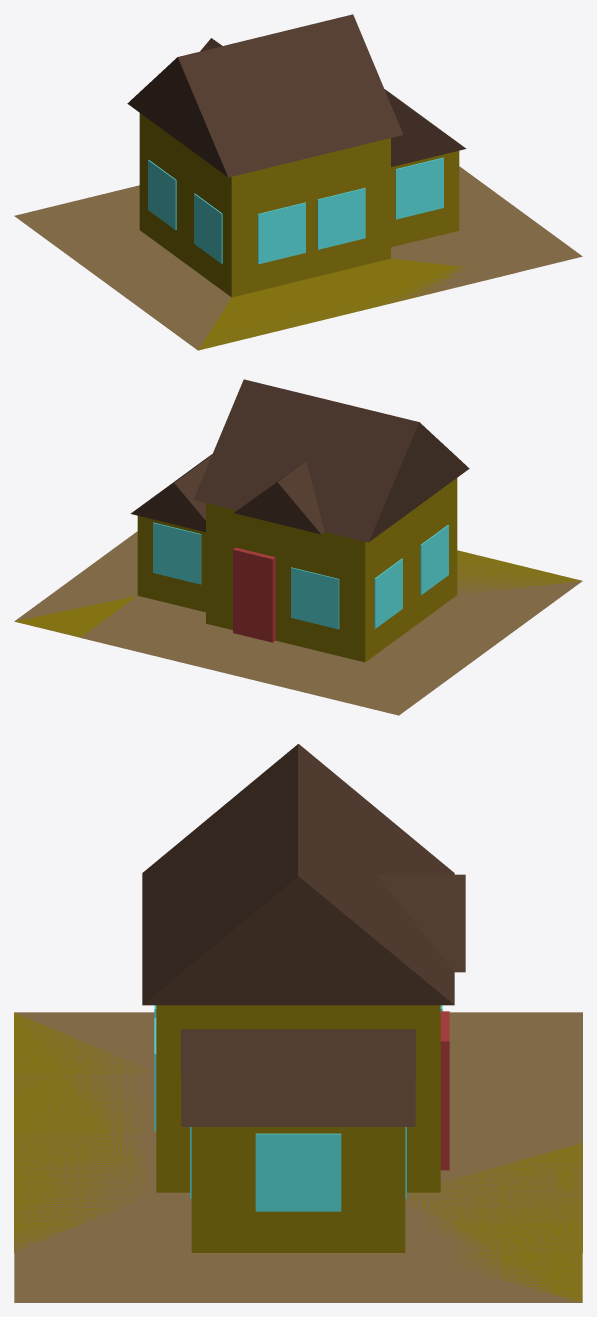
The model's file is house.fbx.
3 renders of one model, top to bottom at view 1: azimuth 30°, elevation 25°; view 2: azimuth 150°, elevation 25°; view 3: azimuth 270°, elevation 25°, orthographic. The views are drawn at different scales.
Visible parts, largest first — view 1: Cube, Cube.002, Cube.001, Cube.004, Cube.009, Cube.010, Cube.011, Cube.006, Cube.008; view 2: Cube, Cube.002, Cube.001, Cube.005, Cube.003, Cube.004, Cube.007, Cube.012, Cube.006, Cube.008; view 3: Cube.001, Cube, Cube.002, Cube.004, Cube.013, Cube.003, Cube.005.
Part boxes in pixels (left/top/right/bottom): Cube: left=14, top=113, right=515, bottom=350; Cube.002: left=127, top=14, right=403, bottom=177; Cube.001: left=370, top=151, right=582, bottom=307; Cube.004: left=384, top=89, right=466, bottom=167; Cube.009: left=257, top=202, right=305, bottom=264; Cube.010: left=317, top=188, right=365, bottom=249; Cube.011: left=395, top=157, right=443, bottom=219; Cube.006: left=148, top=160, right=176, bottom=229; Cube.008: left=194, top=193, right=222, bottom=263; Cube: left=80, top=478, right=582, bottom=715; Cube.002: left=193, top=379, right=469, bottom=542; Cube.001: left=14, top=516, right=205, bottom=637; Cube.005: left=233, top=547, right=275, bottom=642; Cube.003: left=234, top=461, right=324, bottom=534; Cube.004: left=130, top=454, right=212, bottom=532; Cube.007: left=291, top=567, right=339, bottom=629; Cube.012: left=153, top=522, right=201, bottom=584; Cube.006: left=374, top=558, right=402, bottom=628; Cube.008: left=420, top=525, right=448, bottom=594; Cube.001: left=14, top=1127, right=582, bottom=1302; Cube: left=14, top=1005, right=582, bottom=1252; Cube.002: left=142, top=744, right=454, bottom=1005; Cube.004: left=181, top=1029, right=415, bottom=1126; Cube.013: left=255, top=1133, right=341, bottom=1211; Cube.003: left=377, top=874, right=465, bottom=972; Cube.005: left=440, top=1011, right=449, bottom=1170.
Size of the model in its own units: 966 by 500 by 800.
